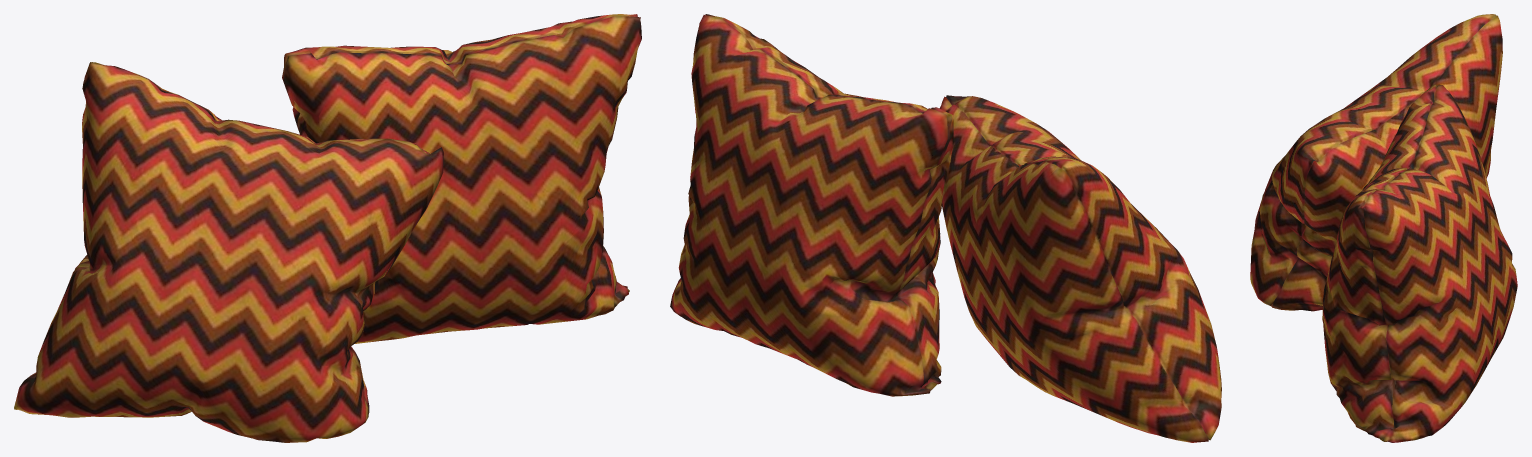
File: throw_pillows_01.gltf
3 renders of one model, left to right at view 1: azimuth 30°, elevation 25°; view 2: azimuth 150°, elevation 25°; view 3: azimuth 270°, elevation 25°, orthographic. The views are drawn at different scales.
Parts seen in each view (by area): view 1: throw_pillows_01_pillow01, throw_pillows_01_pillow02; view 2: throw_pillows_01_pillow02, throw_pillows_01_pillow01; view 3: throw_pillows_01_pillow02, throw_pillows_01_pillow01.
Part boxes in pixels (left/top/right/bottom): throw_pillows_01_pillow01: left=14, top=62, right=443, bottom=442; throw_pillows_01_pillow02: left=282, top=14, right=641, bottom=343; throw_pillows_01_pillow02: left=670, top=14, right=953, bottom=396; throw_pillows_01_pillow01: left=939, top=95, right=1221, bottom=442; throw_pillows_01_pillow02: left=1322, top=84, right=1517, bottom=442; throw_pillows_01_pillow01: left=1250, top=14, right=1502, bottom=311.
Bounding box in the file's own units: 0.9401 × 0.4502 × 0.4519.
1 material, 1 textured.
